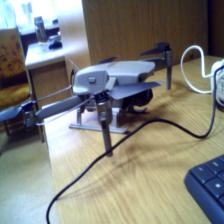drone: (2, 41, 188, 158)
